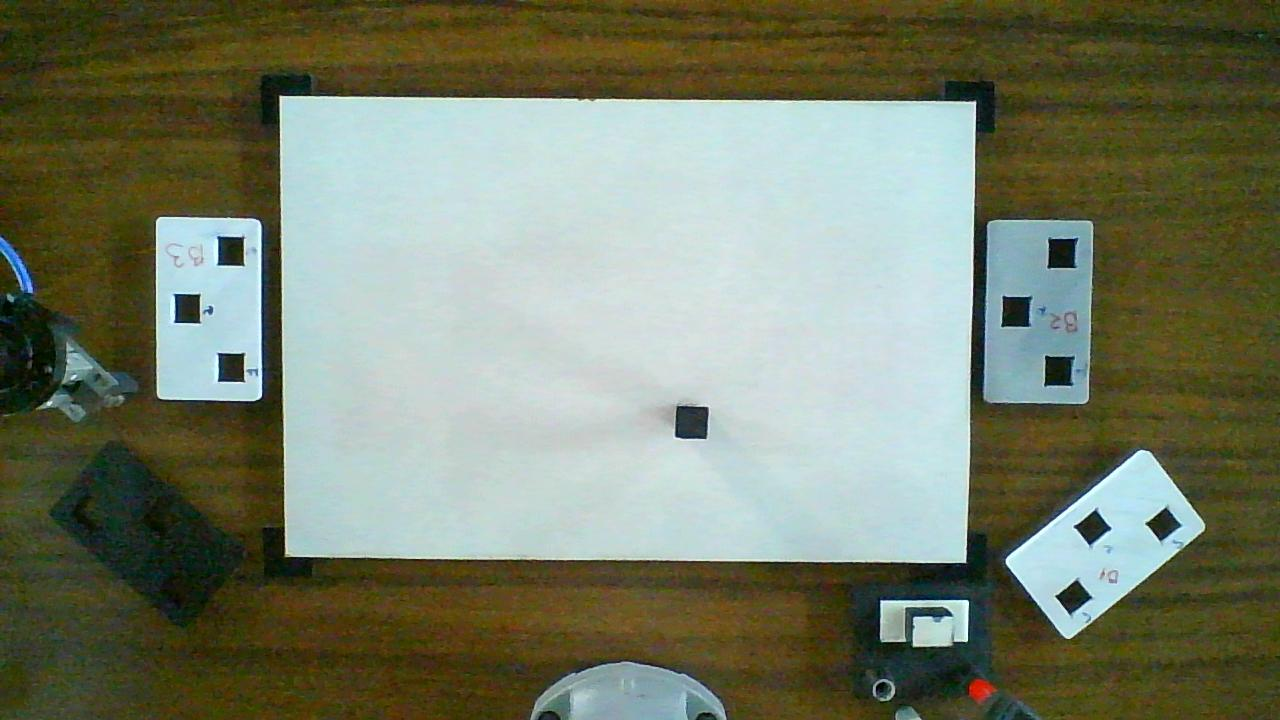peca_preta: (677, 407, 706, 437)
